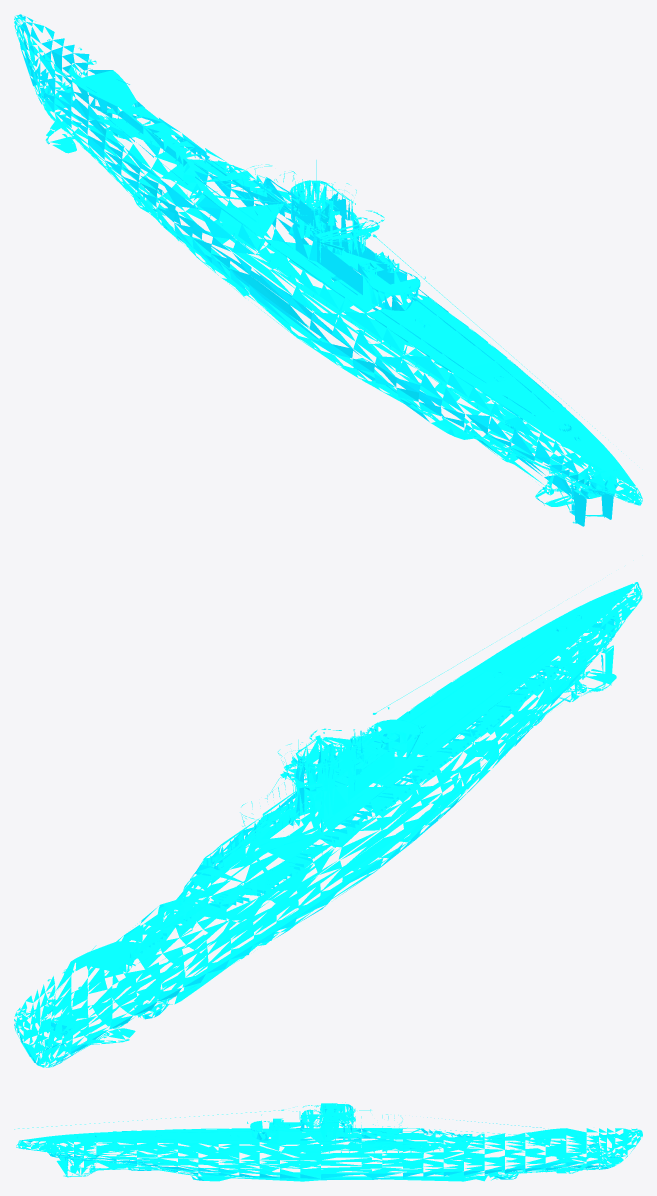
Rendered from PGSS208.glb.
3 views of the same model, one above another, from view 1: azimuth 30°, elevation 25°; view 2: azimuth 150°, elevation 25°; view 3: azimuth 270°, elevation 25° (orthographic). The views are drawn at different scales.
Visible parts, largest first — view 1: hull; view 2: hull; view 3: hull.
Boxes of the visible parts, <box> form: hull: <box>14,14,642,526</box>; hull: <box>14,582,642,1067</box>; hull: <box>14,1102,642,1181</box>.
Bounding box in the file's own units: 0.4507 × 0.749 × 5.13.
